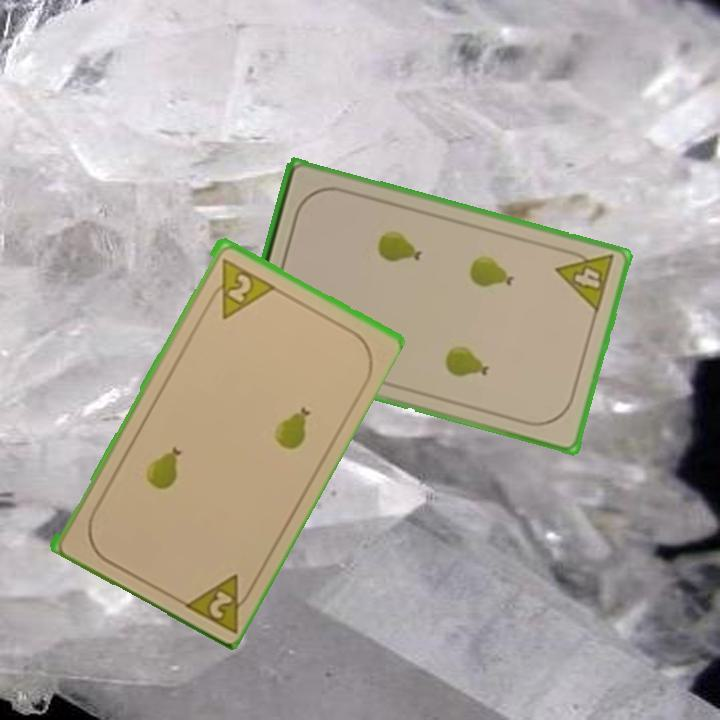2p: (177, 569, 258, 635), (203, 254, 276, 322)
4p: (552, 244, 618, 315)
